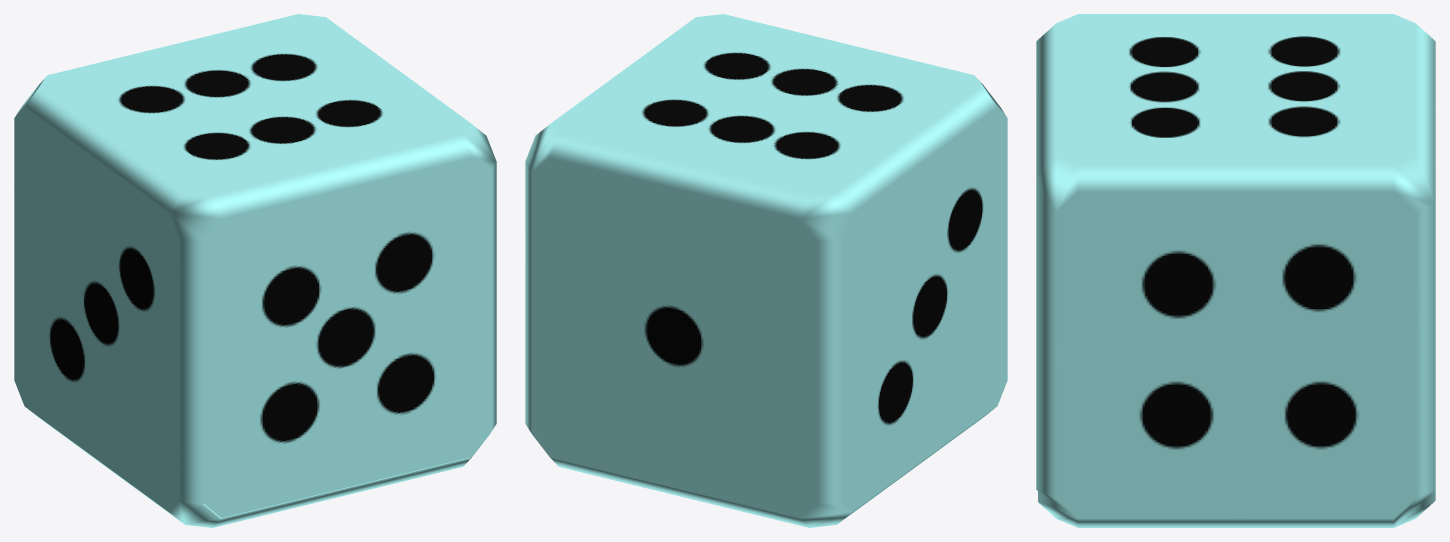
Rendered from Dice.fbx.
3 views of the same model, side by side, from view 1: azimuth 30°, elevation 25°; view 2: azimuth 150°, elevation 25°; view 3: azimuth 270°, elevation 25° (orthographic). The views are drawn at different scales.
Parts seen in each view (by area): view 1: Dice; view 2: Dice; view 3: Dice.
Boxes of the visible parts, x1,y1,x2,y2 form: Dice: (14,14,496,527); Dice: (525,14,1007,527); Dice: (1036,14,1435,527).
Size of the model in its own units: 200 by 200 by 200.
Materials: 1 (1 with a texture image).
